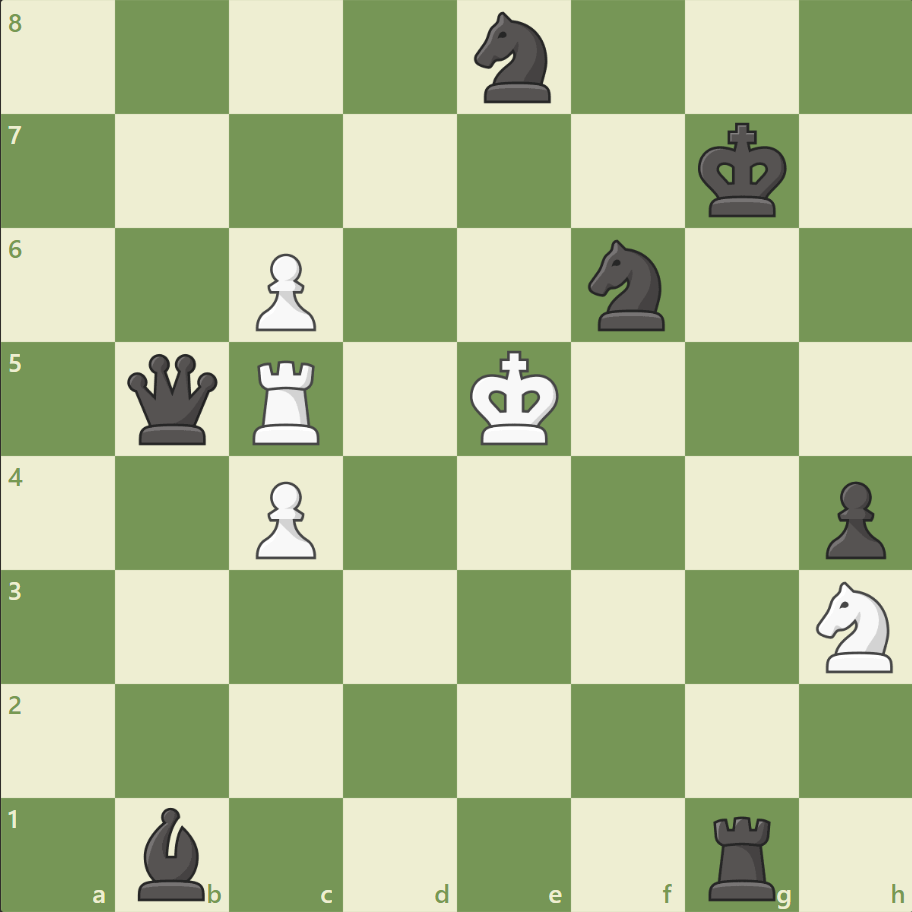K: (465, 344, 565, 452)
N: (806, 575, 903, 677)
P: (247, 246, 322, 337), (247, 473, 322, 564)
R: (246, 352, 329, 449)
b: (131, 801, 215, 904)
k: (692, 117, 792, 225)
n: (465, 7, 562, 110), (579, 234, 676, 337)
p: (815, 473, 889, 564)
q: (124, 349, 223, 449)
r: (700, 806, 783, 904)
